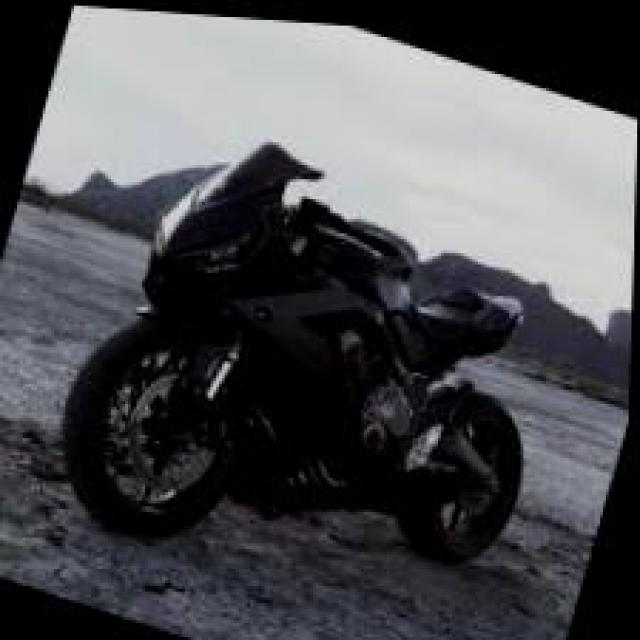CBR650R: (28, 85, 594, 637)
